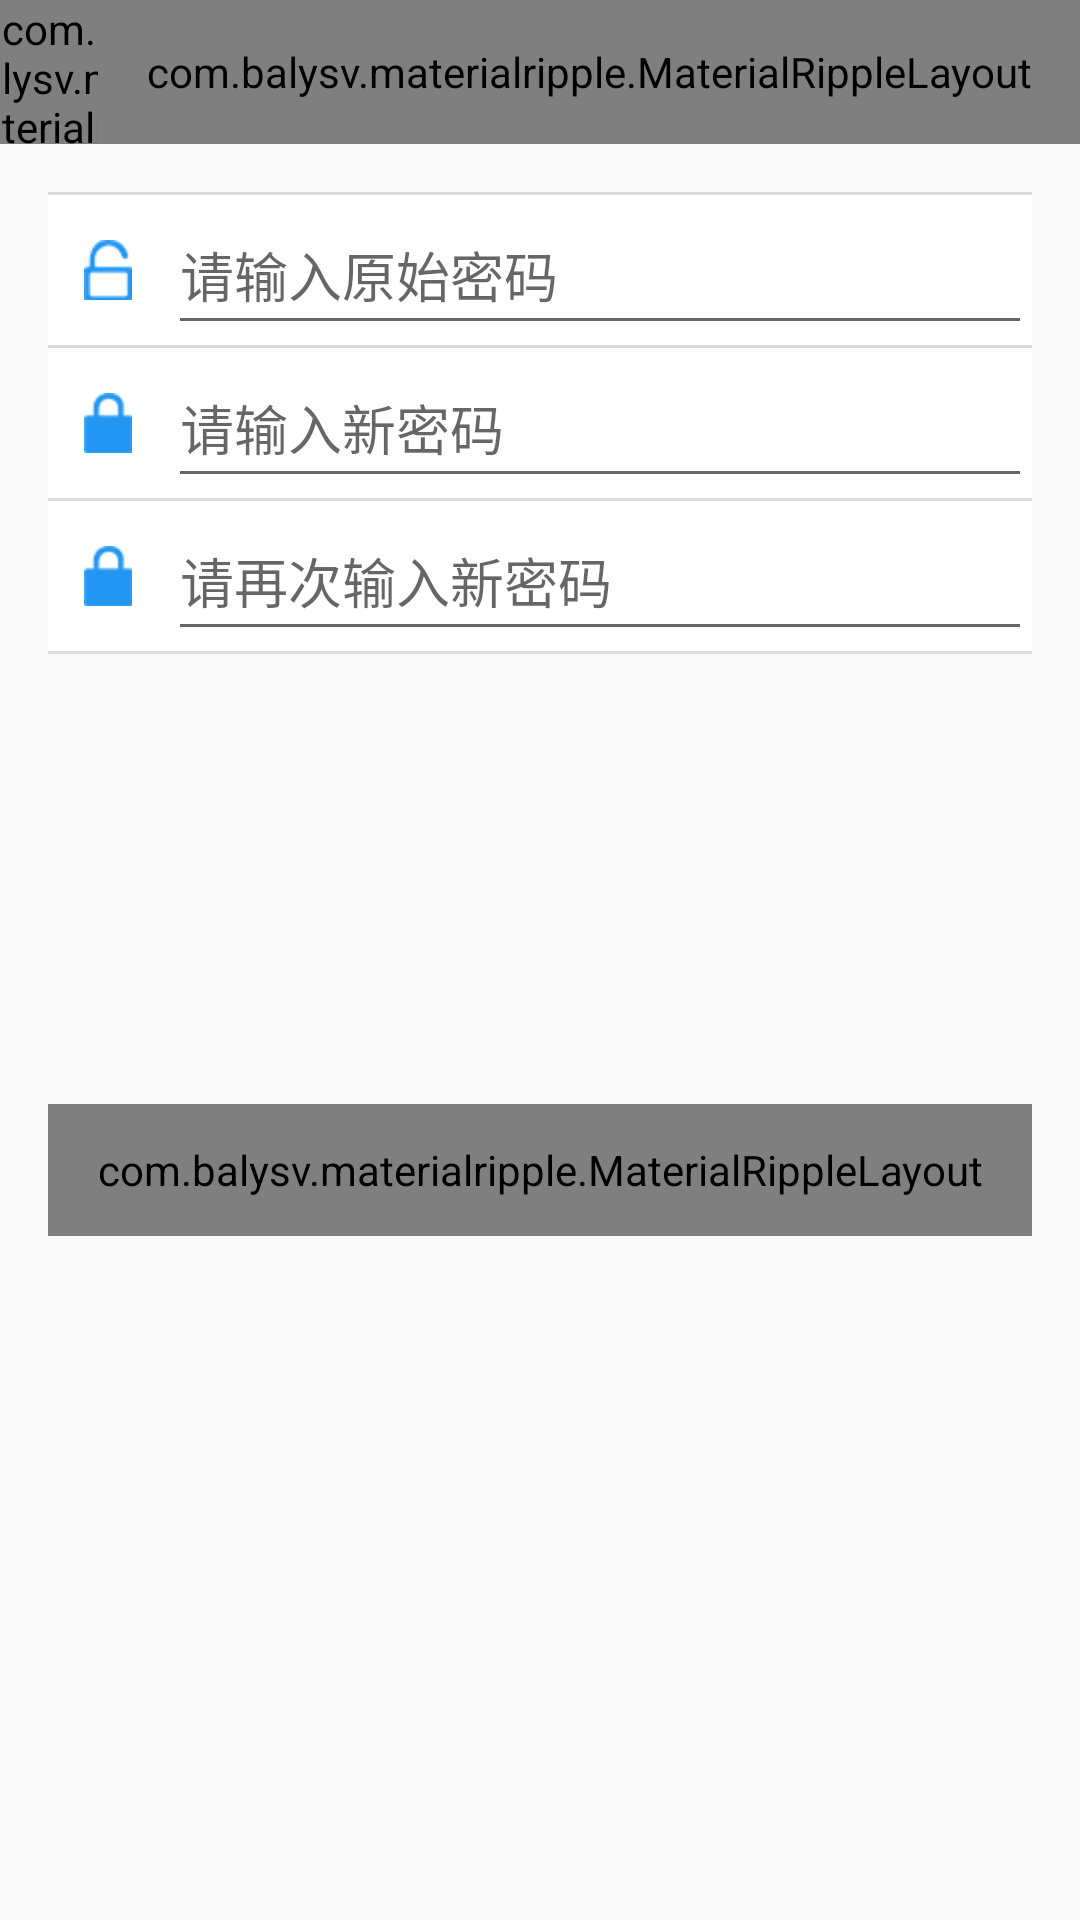

Icons on this 1080w x 1920h Android screen, each with the point to tap as point (x, y):
password: point (108, 423), point (108, 576)
password unlock: point (108, 270)
